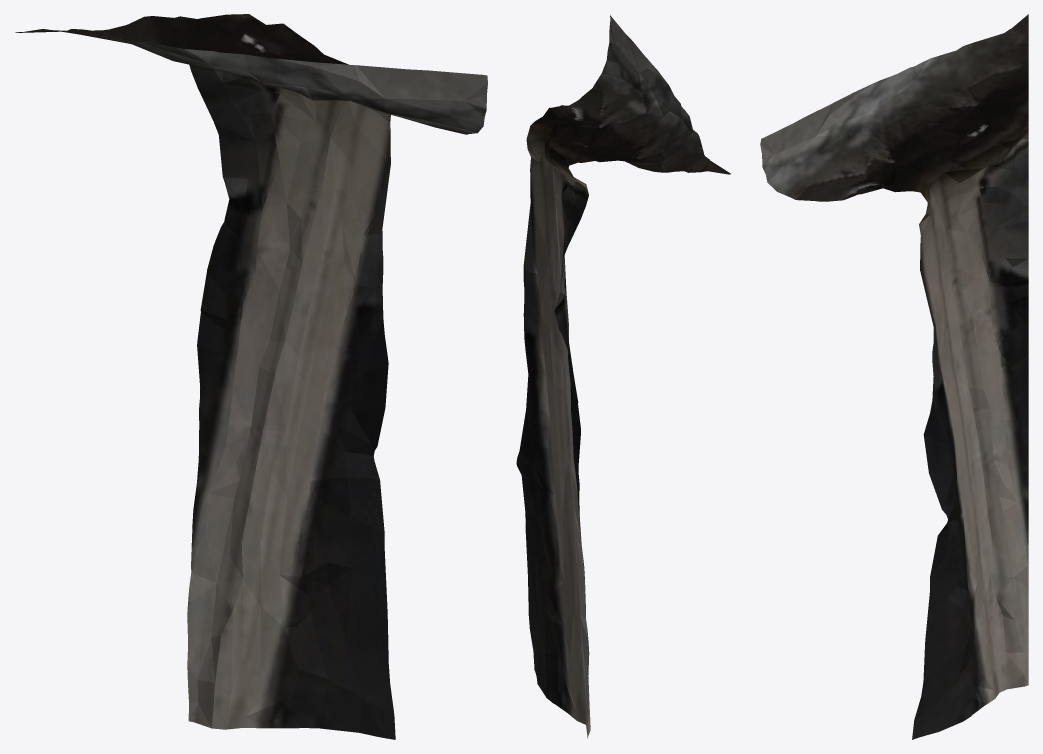
3 views of the same model, side by side, from view 1: azimuth 30°, elevation 25°; view 2: azimuth 150°, elevation 25°; view 3: azimuth 270°, elevation 25° (orthographic). The views are drawn at different scales.
Size of the model in its own units: 0.3722 by 0.8374 by 0.3385.
Materials: 1 (1 with a texture image).
